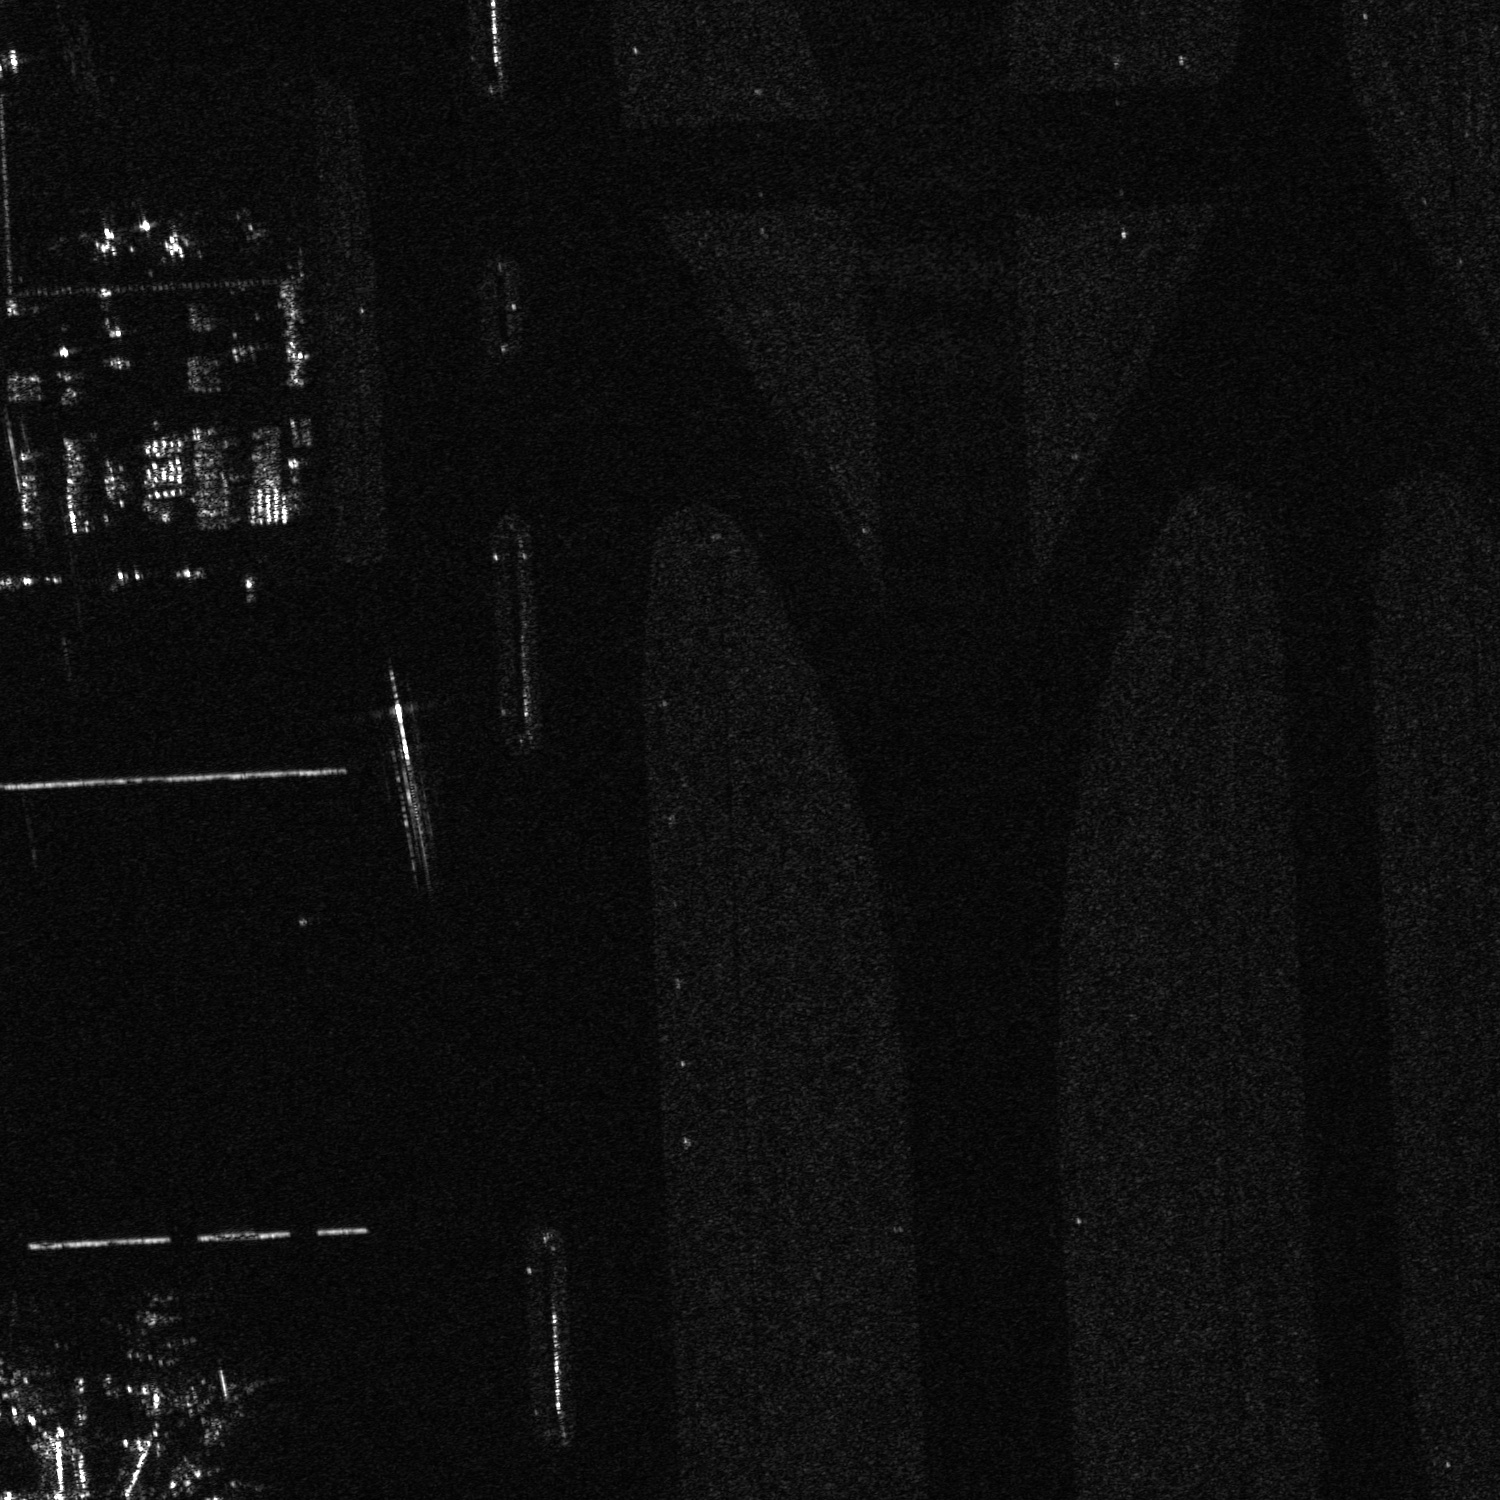A320/321: (104, 1288, 205, 1370)
ARJ21: (77, 218, 128, 265)
other: (146, 214, 199, 264)
